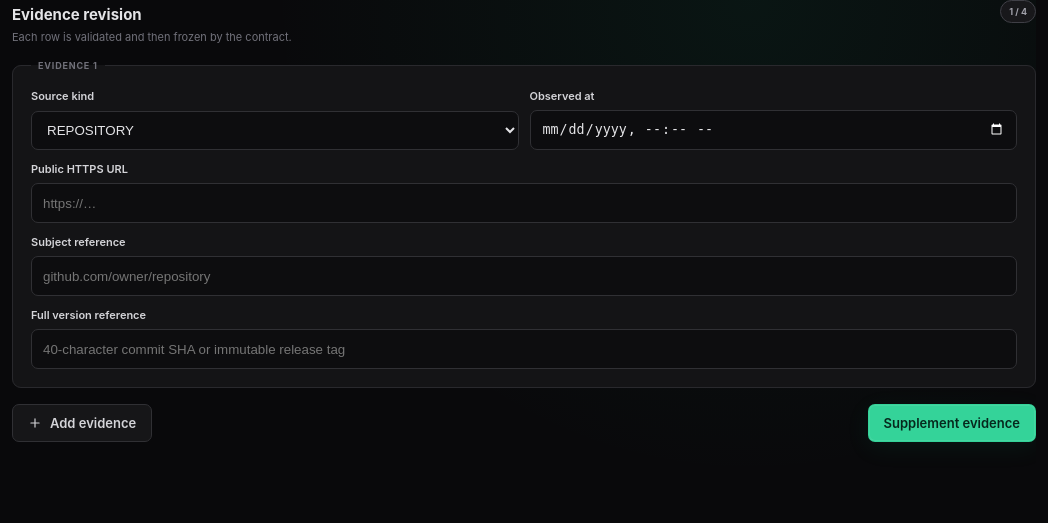
Scenario: EvidenceEditor › retains a complete draft after a finalized execution error
Type "https://github.com/example/compiler/commit/0123456789abcdef0123456789abcdef01234567" into the field named "Evidence 1 URL".
click(524, 203); type("https://github.com/example/compiler/commit/0123456789abcdef0123456789abcdef01234567")  # box top-left (31, 183), bottom-right (1017, 223)
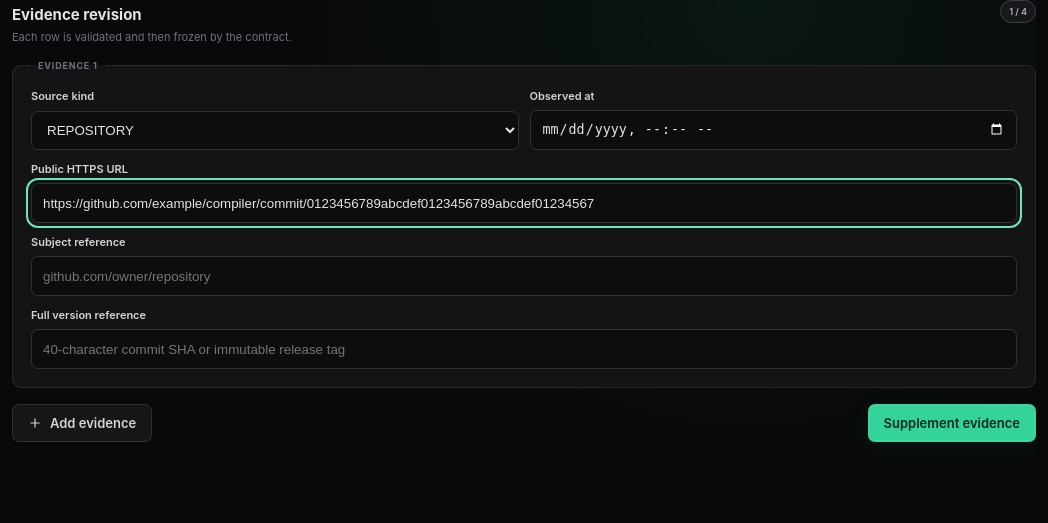
Type "github.com/example/compiler" into the field named "Evidence 1 subject".
click(524, 276); type("github.com/example/compiler")  # box top-left (31, 256), bottom-right (1017, 296)
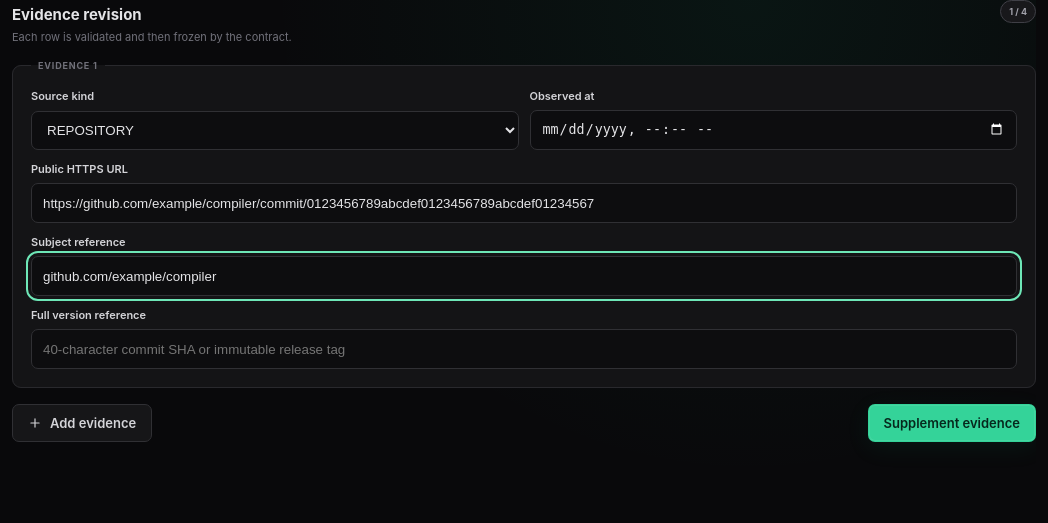
Type "0123456789abcdef0123456789abcdef01234567" into the field named "Evidence 1 version".
click(524, 349); type("0123456789abcdef0123456789abcdef01234567")  # box top-left (31, 329), bottom-right (1017, 369)
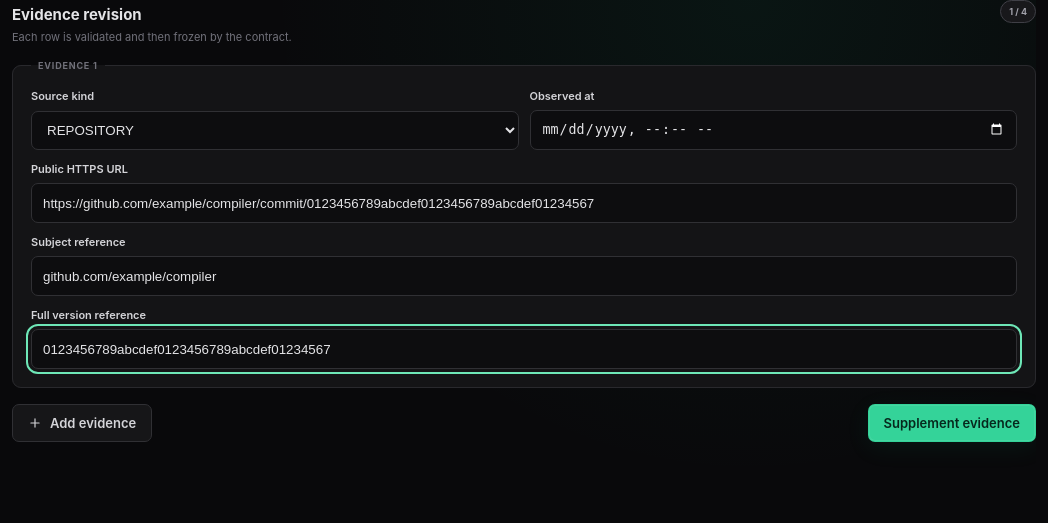
Type "2030-01-01T10:00" into the field named "Evidence 1 observed at".
click(773, 130); type("2030-01-01T10:00")  # box top-left (530, 110), bottom-right (1017, 150)
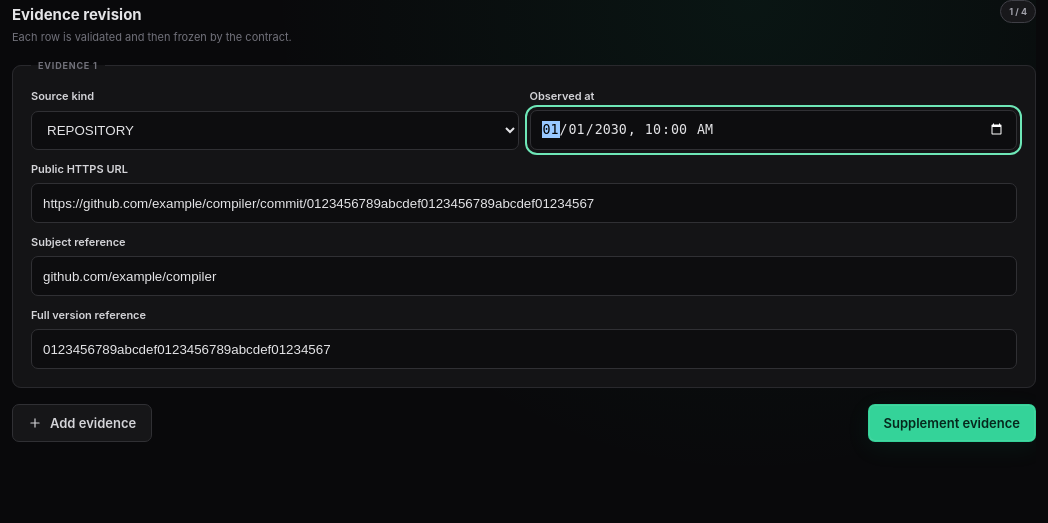
Click the button "Supplement evidence".
click(952, 423)  # box top-left (868, 404), bottom-right (1036, 442)
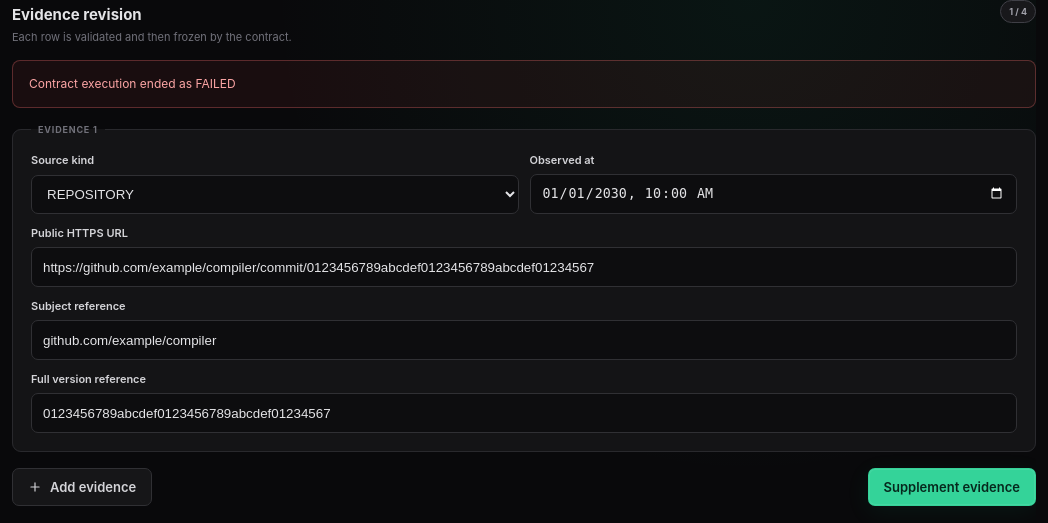
Result: the message reads "Contract execution ended as FAILED" at top-left (29, 76), bottom-right (236, 91)
